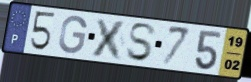5: (193, 28, 224, 72), (29, 10, 58, 52)
7: (162, 24, 193, 68)
G: (57, 14, 89, 55)
S: (124, 22, 158, 64)
X: (89, 16, 130, 62)
